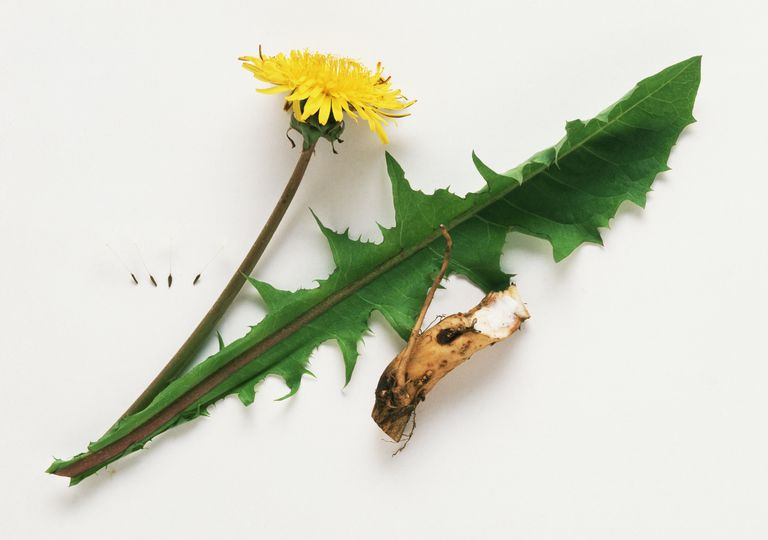dandelion: (267, 40, 400, 132)
